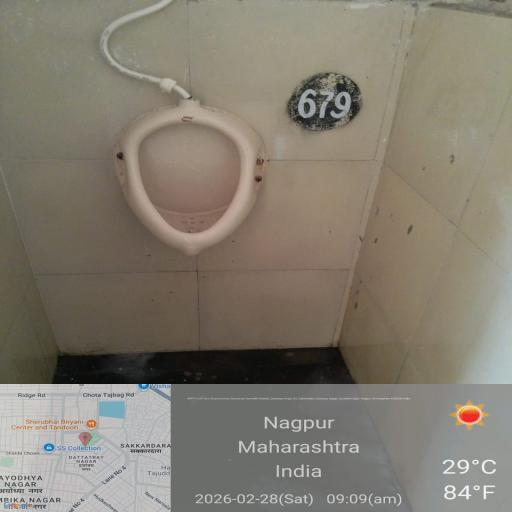clean_floor: (250, 0, 502, 356), (0, 2, 144, 360)
clean_urinal: (111, 119, 245, 244)
